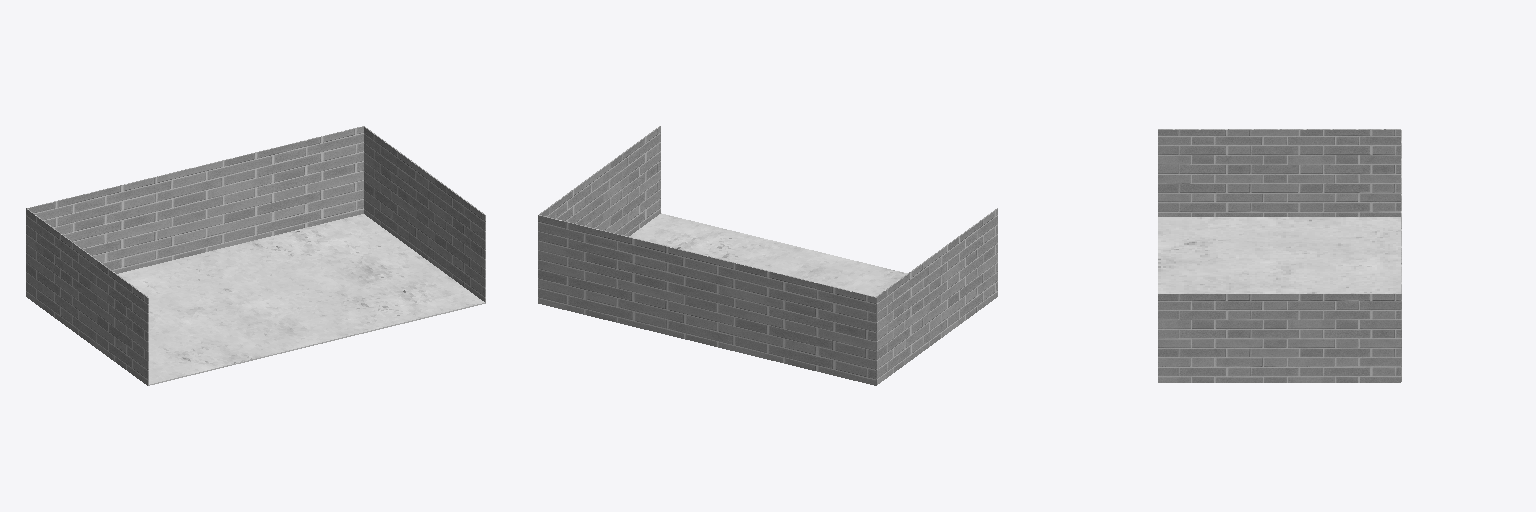
3 renders of one model, left to right at view 1: azimuth 30°, elevation 25°; view 2: azimuth 150°, elevation 25°; view 3: azimuth 270°, elevation 25°, orthographic.
Visible parts, largest first — view 1: pCube5; view 2: pCube5; view 3: pCube5.
Part boxes in pixels (left/top/right/bottom): pCube5: left=26, top=126, right=485, bottom=385; pCube5: left=538, top=126, right=997, bottom=385; pCube5: left=1158, top=129, right=1401, bottom=382.
Bounding box in the file's own units: 80.27 × 20.02 × 50.14.
Materials: 1 (1 with a texture image).